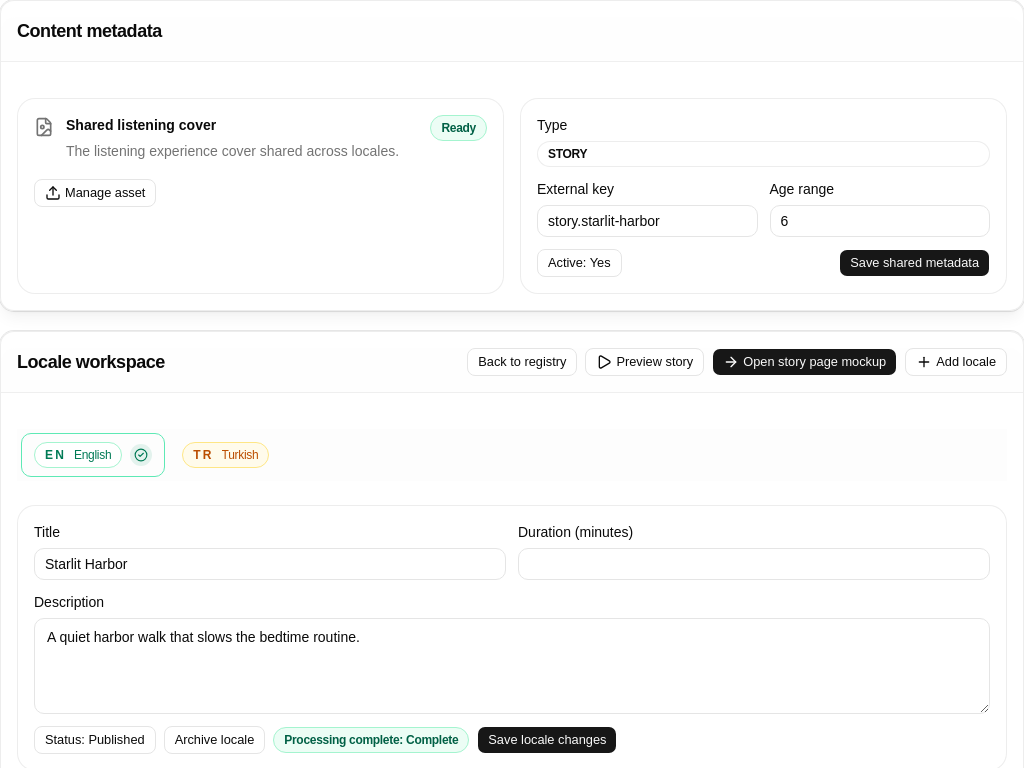
Scenario: Variant A mockup routes › preserves the selected locale when navigating from content detail to story pages
Click the tab "tr Turkish" at (226, 455), box [169,433,282,477]
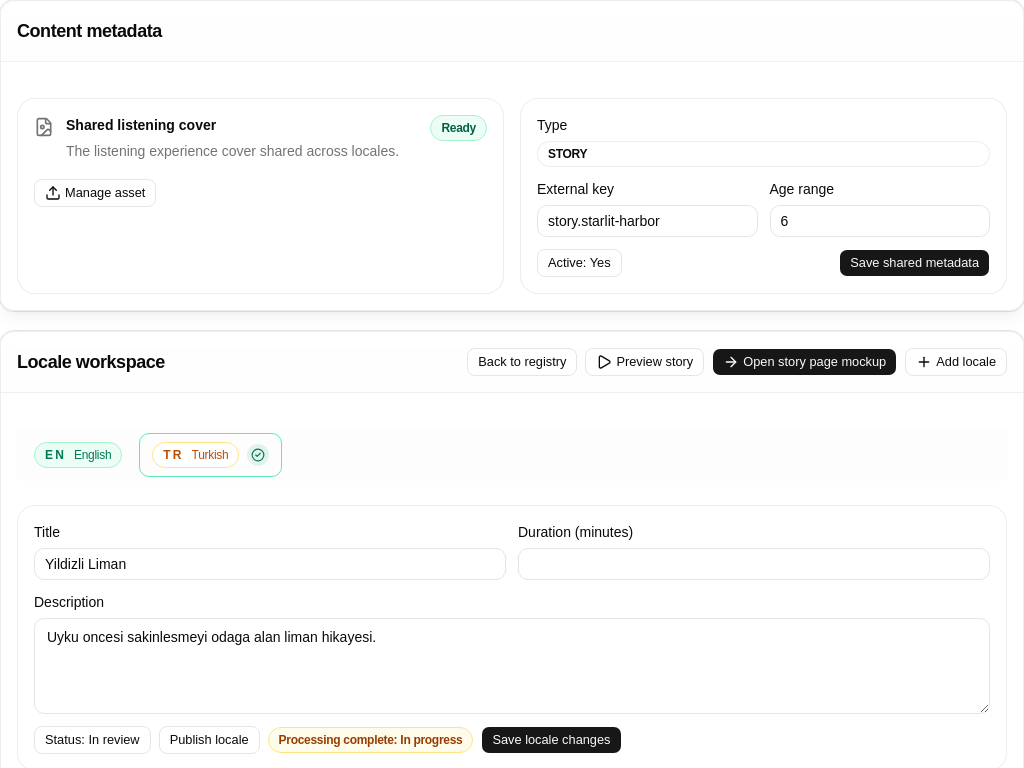
Expected: the tab "tr Turkish" has attribute data-state="active", [139,433,282,477]
Click the link "Open story page mockup" at (805, 362), box [712,348,897,376]
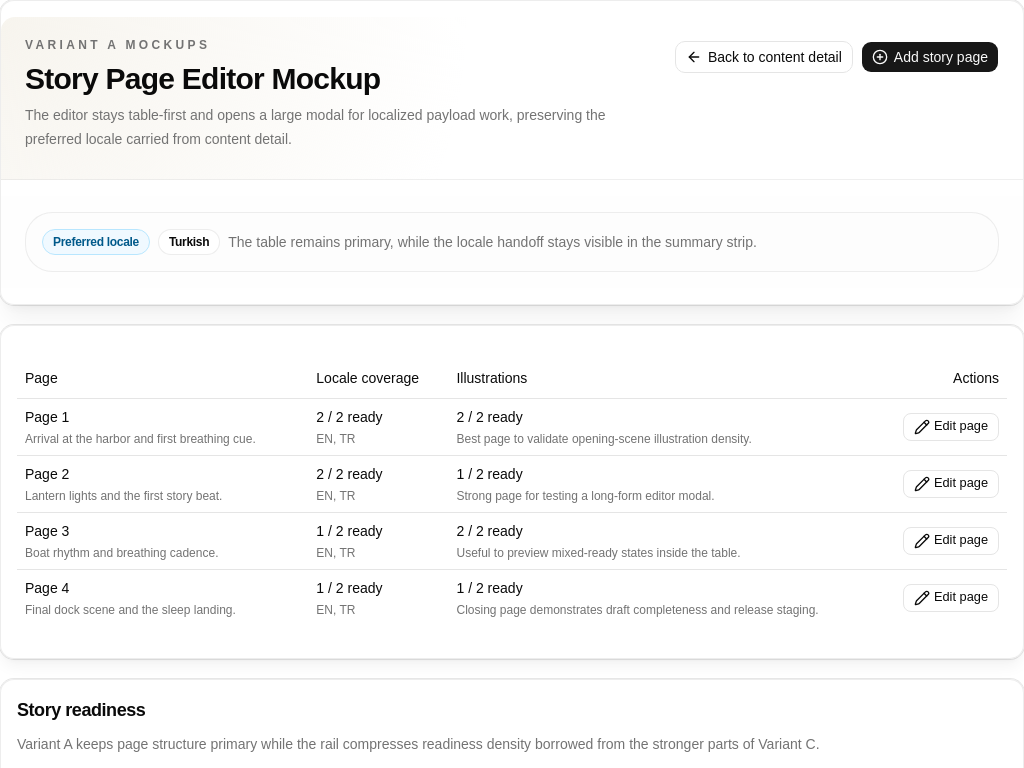
Expected: the text "Turkish" is shown, [158,229,220,255]
Expected: the heading "Story Page Editor Mockup" is shown, [25,62,380,95]
Expected: the text "preferred locale" is shown, [25,107,606,147]
